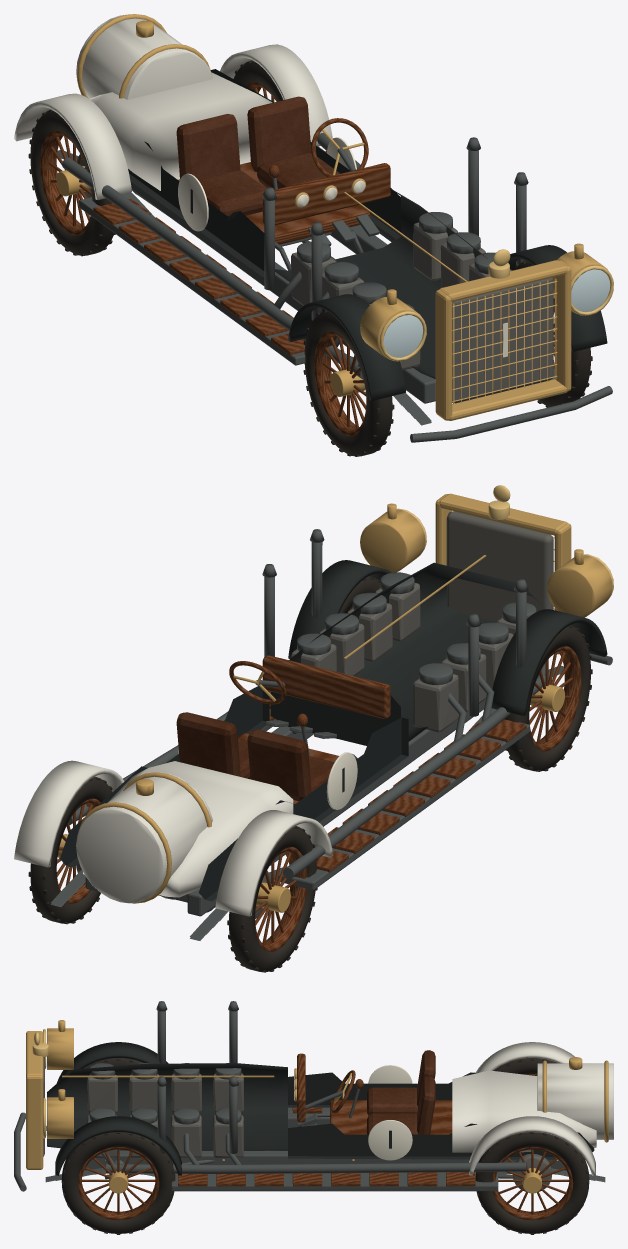
File: Benz_1912_Racer_Concept_LOD0.fbx
3 views of the same model, one above another, from view 1: azimuth 30°, elevation 25°; view 2: azimuth 150°, elevation 25°; view 3: azimuth 270°, elevation 25° (orthographic). The views are drawn at different scales.
Visible parts, largest first — view 1: BENZ_Body_Root_OPT_Merged_BENZ_Paint_Ivory_OPT_DATA, BENZ_Body_Root_OPT_Merged_BENZ_Paint_Black_OPT_DATA, BENZ_Body_Root_OPT_Merged_RB_Steel_Blackened_OPT_DATA, BENZ_Radiator_Root_OPT_Merged_RB_Brass_Aged_OPT_DATA, BENZ_Cockpit_Root_OPT_Merged_RB_Leather_Saddle_OPT_DATA, BENZ_Radiator_Core_OPT, BENZ_Body_Root_OPT_Merged_RB_Wood_Walnut_OPT_DATA, BENZ_Body_Root_OPT_Merged_RB_Brass_Aged_OPT_DATA, BENZ_Chassis_Root_OPT_Merged_RB_Steel_Blackened_OPT_DATA, BENZ_Body_Root_OPT_Merged_RB_Iron_Rough_OPT_DATA, BENZ_Wheel_FL_Spin_OPT_Merged_RB_Tire_Rubber_OPT_DATA, BENZ_Dashboard_OPT (+10 smaller); view 2: BENZ_Body_Root_OPT_Merged_BENZ_Paint_Ivory_OPT_DATA, BENZ_Body_Root_OPT_Merged_BENZ_Paint_Black_OPT_DATA, BENZ_Body_Root_OPT_Merged_RB_Steel_Blackened_OPT_DATA, BENZ_Body_Root_OPT_Merged_RB_Brass_Aged_OPT_DATA, BENZ_Radiator_Core_OPT, BENZ_Body_Root_OPT_Merged_RB_Iron_Rough_OPT_DATA, BENZ_Cockpit_Root_OPT_Merged_RB_Leather_Saddle_OPT_DATA, BENZ_Body_Root_OPT_Merged_RB_Wood_Walnut_OPT_DATA, BENZ_Dashboard_OPT, BENZ_Chassis_Root_OPT_Merged_RB_Steel_Blackened_OPT_DATA, BENZ_Wheel_RL_Spin_OPT_Merged_RB_Tire_Rubber_OPT_DATA, BENZ_Wheel_FL_Spin_OPT_Merged_RB_Tire_Rubber_OPT_DATA (+8 smaller); view 3: BENZ_Body_Root_OPT_Merged_BENZ_Paint_Black_OPT_DATA, BENZ_Body_Root_OPT_Merged_BENZ_Paint_Ivory_OPT_DATA, BENZ_Body_Root_OPT_Merged_RB_Steel_Blackened_OPT_DATA, BENZ_Body_Root_OPT_Merged_RB_Iron_Rough_OPT_DATA, BENZ_Body_Root_OPT_Merged_RB_Wood_Walnut_OPT_DATA, BENZ_Wheel_FR_Spin_OPT_Merged_RB_Tire_Rubber_OPT_DATA, BENZ_Wheel_RR_Spin_OPT_Merged_RB_Tire_Rubber_OPT_DATA, BENZ_Body_Root_OPT_Merged_RB_Brass_Aged_OPT_DATA, BENZ_Chassis_Root_OPT_Merged_RB_Steel_Blackened_OPT_DATA, BENZ_Cockpit_Root_OPT_Merged_RB_Leather_Saddle_OPT_DATA, BENZ_Wheel_FR_Spin_OPT_Merged_RB_Wood_Walnut_OPT_DATA, BENZ_Radiator_Root_OPT_Merged_RB_Brass_Aged_OPT_DATA (+8 smaller).
Boxes of the visible parts, bbox=[...] form: BENZ_Body_Root_OPT_Merged_BENZ_Paint_Ivory_OPT_DATA: bbox=[14, 14, 332, 200]; BENZ_Body_Root_OPT_Merged_BENZ_Paint_Black_OPT_DATA: bbox=[128, 69, 607, 400]; BENZ_Body_Root_OPT_Merged_RB_Steel_Blackened_OPT_DATA: bbox=[62, 132, 612, 442]; BENZ_Radiator_Root_OPT_Merged_RB_Brass_Aged_OPT_DATA: bbox=[435, 260, 571, 420]; BENZ_Cockpit_Root_OPT_Merged_RB_Leather_Saddle_OPT_DATA: bbox=[176, 96, 339, 216]; BENZ_Radiator_Core_OPT: bbox=[452, 277, 553, 403]; BENZ_Body_Root_OPT_Merged_RB_Wood_Walnut_OPT_DATA: bbox=[93, 151, 395, 355]; BENZ_Body_Root_OPT_Merged_RB_Brass_Aged_OPT_DATA: bbox=[77, 14, 607, 358]; BENZ_Chassis_Root_OPT_Merged_RB_Steel_Blackened_OPT_DATA: bbox=[57, 150, 554, 425]; BENZ_Body_Root_OPT_Merged_RB_Iron_Rough_OPT_DATA: bbox=[291, 222, 511, 370]; BENZ_Wheel_FL_Spin_OPT_Merged_RB_Tire_Rubber_OPT_DATA: bbox=[303, 310, 394, 456]; BENZ_Dashboard_OPT: bbox=[262, 163, 390, 224]; BENZ_Body_Root_OPT_Merged_BENZ_Paint_Ivory_OPT_DATA: bbox=[14, 760, 333, 916]; BENZ_Body_Root_OPT_Merged_BENZ_Paint_Black_OPT_DATA: bbox=[60, 560, 607, 901]; BENZ_Body_Root_OPT_Merged_RB_Steel_Blackened_OPT_DATA: bbox=[68, 529, 612, 890]; BENZ_Body_Root_OPT_Merged_RB_Brass_Aged_OPT_DATA: bbox=[78, 503, 612, 903]; BENZ_Radiator_Core_OPT: bbox=[446, 511, 553, 621]; BENZ_Body_Root_OPT_Merged_RB_Iron_Rough_OPT_DATA: bbox=[291, 583, 515, 732]; BENZ_Cockpit_Root_OPT_Merged_RB_Leather_Saddle_OPT_DATA: bbox=[176, 712, 334, 801]; BENZ_Body_Root_OPT_Merged_RB_Wood_Walnut_OPT_DATA: bbox=[237, 697, 526, 872]; BENZ_Dashboard_OPT: bbox=[262, 655, 390, 718]; BENZ_Chassis_Root_OPT_Merged_RB_Steel_Blackened_OPT_DATA: bbox=[51, 665, 563, 940]; BENZ_Wheel_RL_Spin_OPT_Merged_RB_Tire_Rubber_OPT_DATA: bbox=[227, 826, 317, 972]; BENZ_Wheel_FL_Spin_OPT_Merged_RB_Tire_Rubber_OPT_DATA: bbox=[504, 625, 592, 771]; BENZ_Body_Root_OPT_Merged_BENZ_Paint_Black_OPT_DATA: bbox=[47, 1042, 594, 1175]; BENZ_Body_Root_OPT_Merged_BENZ_Paint_Ivory_OPT_DATA: bbox=[452, 1042, 613, 1175]; BENZ_Body_Root_OPT_Merged_RB_Steel_Blackened_OPT_DATA: bbox=[14, 1001, 526, 1191]; BENZ_Body_Root_OPT_Merged_RB_Iron_Rough_OPT_DATA: bbox=[87, 1073, 243, 1157]; BENZ_Body_Root_OPT_Merged_RB_Wood_Walnut_OPT_DATA: bbox=[178, 1100, 475, 1186]; BENZ_Wheel_FR_Spin_OPT_Merged_RB_Tire_Rubber_OPT_DATA: bbox=[61, 1132, 175, 1234]; BENZ_Wheel_RR_Spin_OPT_Merged_RB_Tire_Rubber_OPT_DATA: bbox=[475, 1132, 589, 1234]; BENZ_Body_Root_OPT_Merged_RB_Brass_Aged_OPT_DATA: bbox=[47, 1020, 608, 1142]; BENZ_Chassis_Root_OPT_Merged_RB_Steel_Blackened_OPT_DATA: bbox=[45, 1113, 605, 1182]; BENZ_Cockpit_Root_OPT_Merged_RB_Leather_Saddle_OPT_DATA: bbox=[367, 1050, 435, 1134]; BENZ_Wheel_FR_Spin_OPT_Merged_RB_Wood_Walnut_OPT_DATA: bbox=[78, 1147, 159, 1220]; BENZ_Radiator_Root_OPT_Merged_RB_Brass_Aged_OPT_DATA: bbox=[26, 1031, 43, 1169].
Bounding box in the file's own units: 167 × 146 × 486.
Materials: 11 (2 with a texture image).
